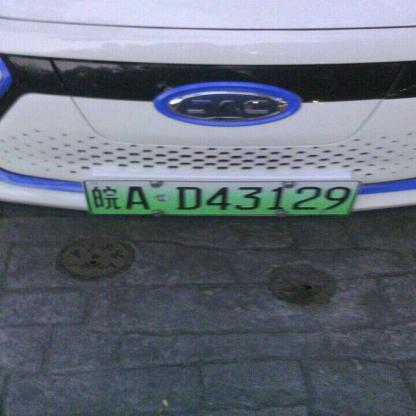lp: (84, 180, 360, 215)
